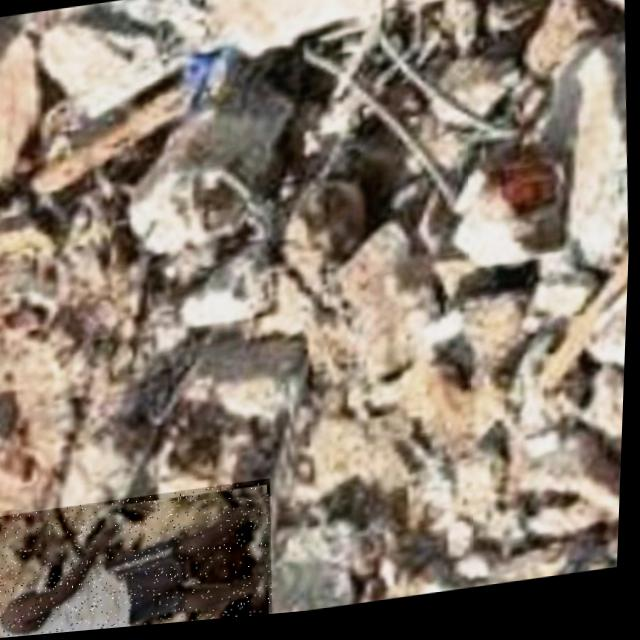Person in Rubble: (0, 482, 281, 639)
